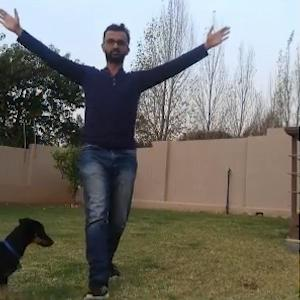takeoff: (0, 0, 239, 275)
